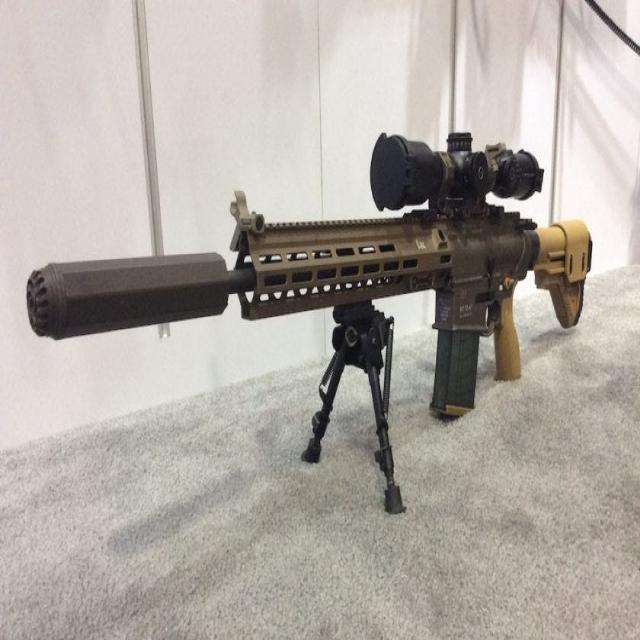Rifle: (27, 132, 594, 423)
